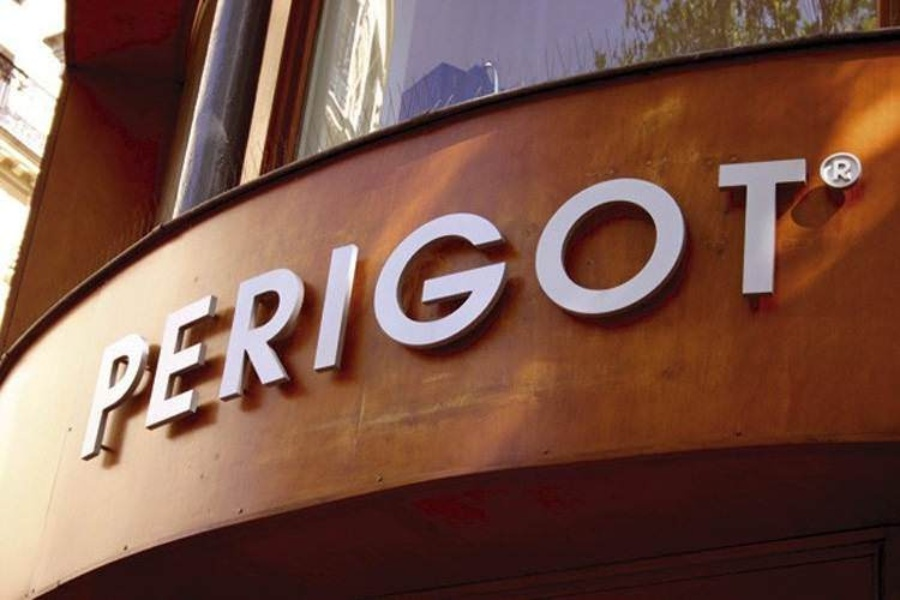text: (113, 122, 128, 464), (129, 122, 144, 464), (145, 122, 160, 464), (161, 122, 176, 464), (177, 122, 192, 464), (193, 122, 208, 464), (209, 122, 224, 464), (225, 122, 240, 464), (241, 122, 256, 464), (257, 122, 272, 464), (273, 122, 288, 464), (289, 122, 304, 464), (305, 122, 320, 464), (321, 122, 336, 464), (337, 122, 352, 464), (353, 122, 368, 464), (369, 122, 384, 464), (385, 122, 400, 464), (401, 122, 416, 464), (417, 122, 432, 464), (433, 122, 448, 464), (449, 122, 464, 464), (465, 122, 480, 464), (481, 122, 496, 464), (497, 122, 512, 464), (513, 122, 528, 464), (529, 122, 544, 464), (545, 122, 560, 464), (561, 122, 576, 464), (577, 122, 592, 464), (593, 122, 608, 464), (609, 122, 624, 464), (625, 122, 640, 464), (641, 122, 656, 464), (657, 122, 672, 464), (673, 122, 688, 464), (689, 122, 704, 464), (705, 122, 720, 464), (721, 122, 736, 464), (737, 122, 752, 464), (753, 122, 768, 464), (769, 122, 784, 464), (785, 122, 800, 464), (801, 122, 811, 464), (111, 122, 112, 464), (833, 160, 848, 181), (849, 160, 854, 181)
